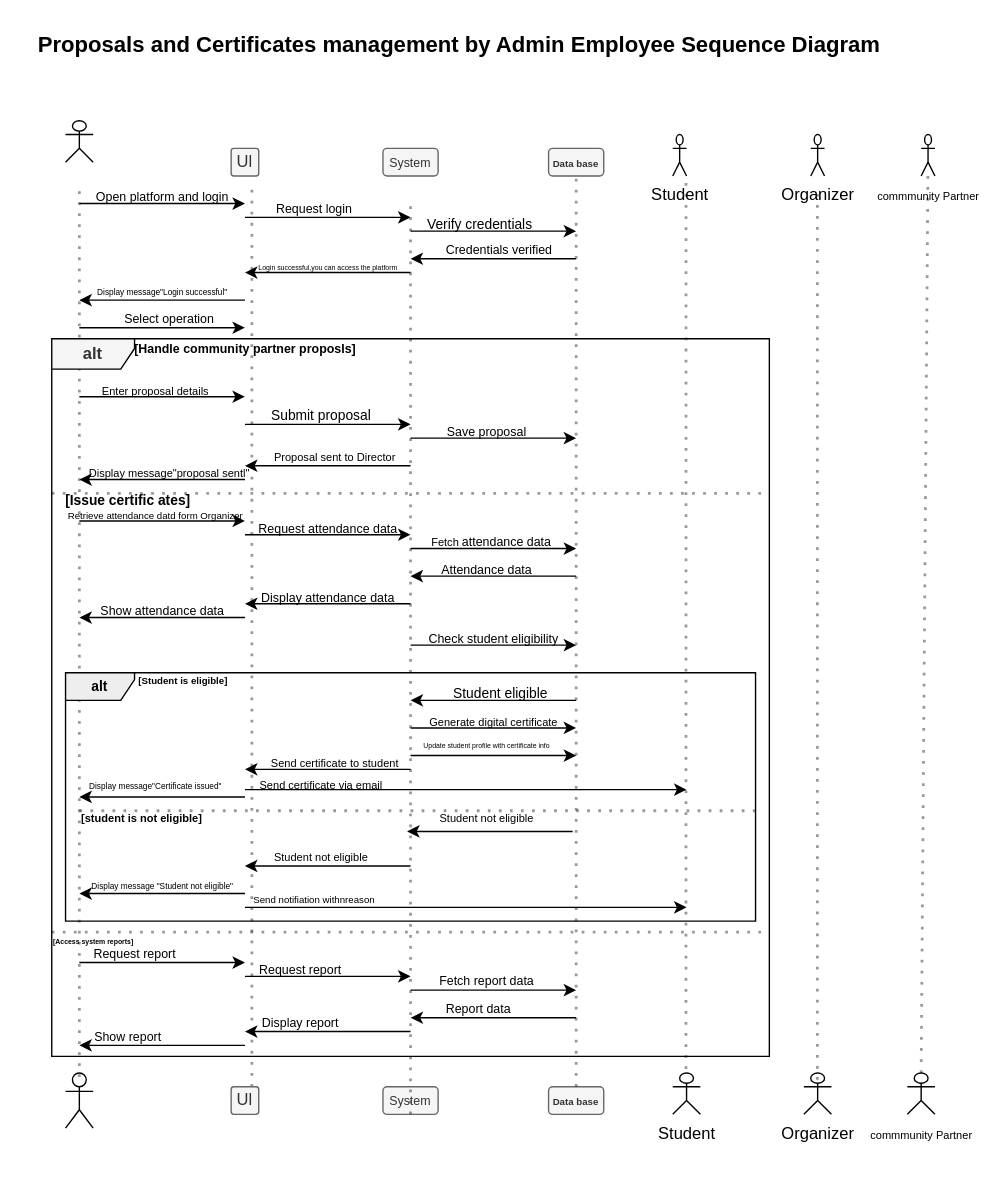
This 1002x1180 diagram has some shape labels left out. The centre of each missing label's shape, as x and y in pixels:
"Actor" belongs at (78,1100).
"Admin Employee" belongs at (78,140).
